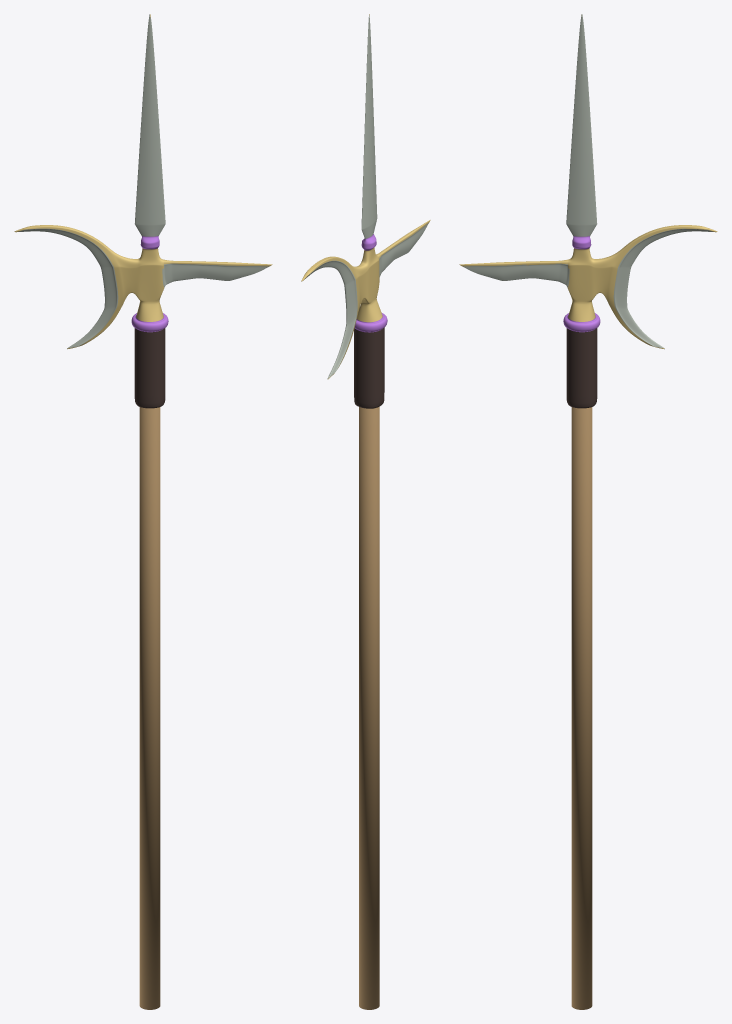
Rendered from Halbert.fbx.
3 renders of one model, left to right at view 1: azimuth 90°, elevation 25°; view 2: azimuth 150°, elevation 25°; view 3: azimuth 270°, elevation 25°, orthographic.
Visible parts, largest first — view 1: Halbert, Handle; view 2: Handle, Halbert; view 3: Halbert, Handle.
Boxes of the visible parts, bbox=[...] form: Halbert: bbox=[14, 14, 272, 408]; Handle: bbox=[139, 407, 160, 1009]; Handle: bbox=[359, 406, 379, 1009]; Halbert: bbox=[301, 14, 430, 408]; Halbert: bbox=[459, 14, 717, 408]; Handle: bbox=[571, 407, 592, 1009].
Size of the model in its own units: 8.05 by 246 by 58.17.
